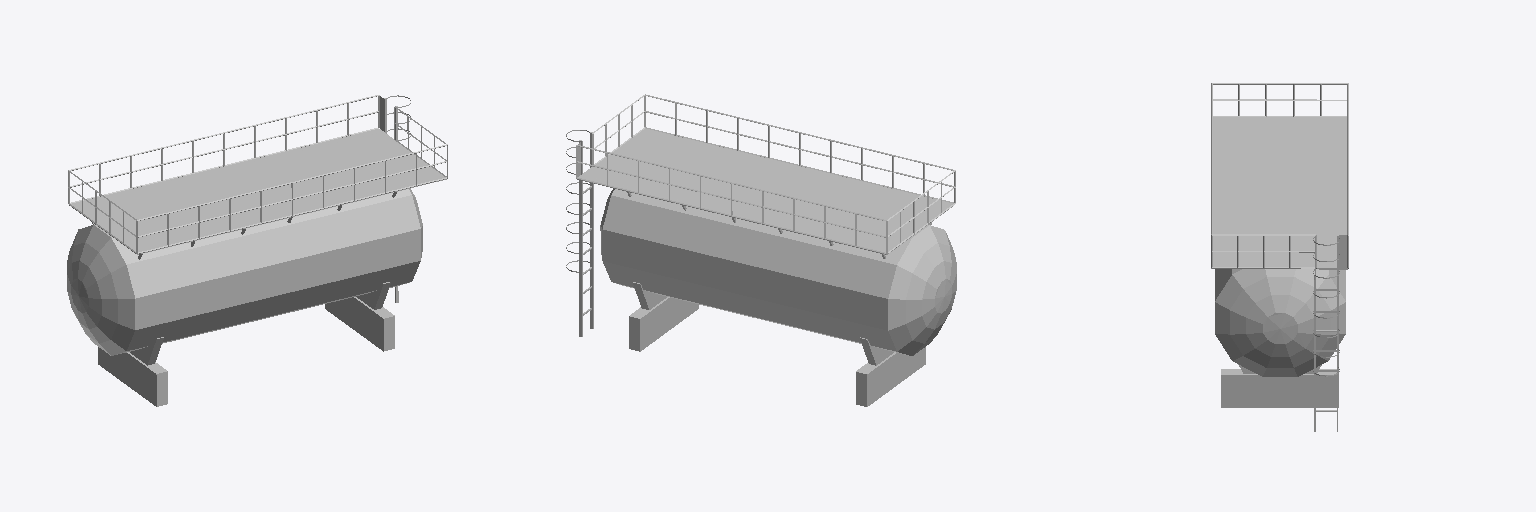
The model's file is tank_1.obj.
3 views of the same model, side by side, from view 1: azimuth 30°, elevation 25°; view 2: azimuth 150°, elevation 25°; view 3: azimuth 270°, elevation 25° (orthographic).
Visible parts, largest first — view 1: EQUIP_MTBE_V_103, Object001; view 2: EQUIP_MTBE_V_103, Object001; view 3: EQUIP_MTBE_V_103, Object001.
Part boxes in pixels (left/top/right/bottom): EQUIP_MTBE_V_103: left=67, top=95, right=446, bottom=406; Object001: left=68, top=95, right=447, bottom=253; EQUIP_MTBE_V_103: left=566, top=128, right=956, bottom=406; Object001: left=576, top=94, right=955, bottom=254; EQUIP_MTBE_V_103: left=1213, top=117, right=1347, bottom=431; Object001: left=1211, top=83, right=1348, bottom=268.
Bounding box in the file's own units: 18.56 × 9.87 × 6.29.